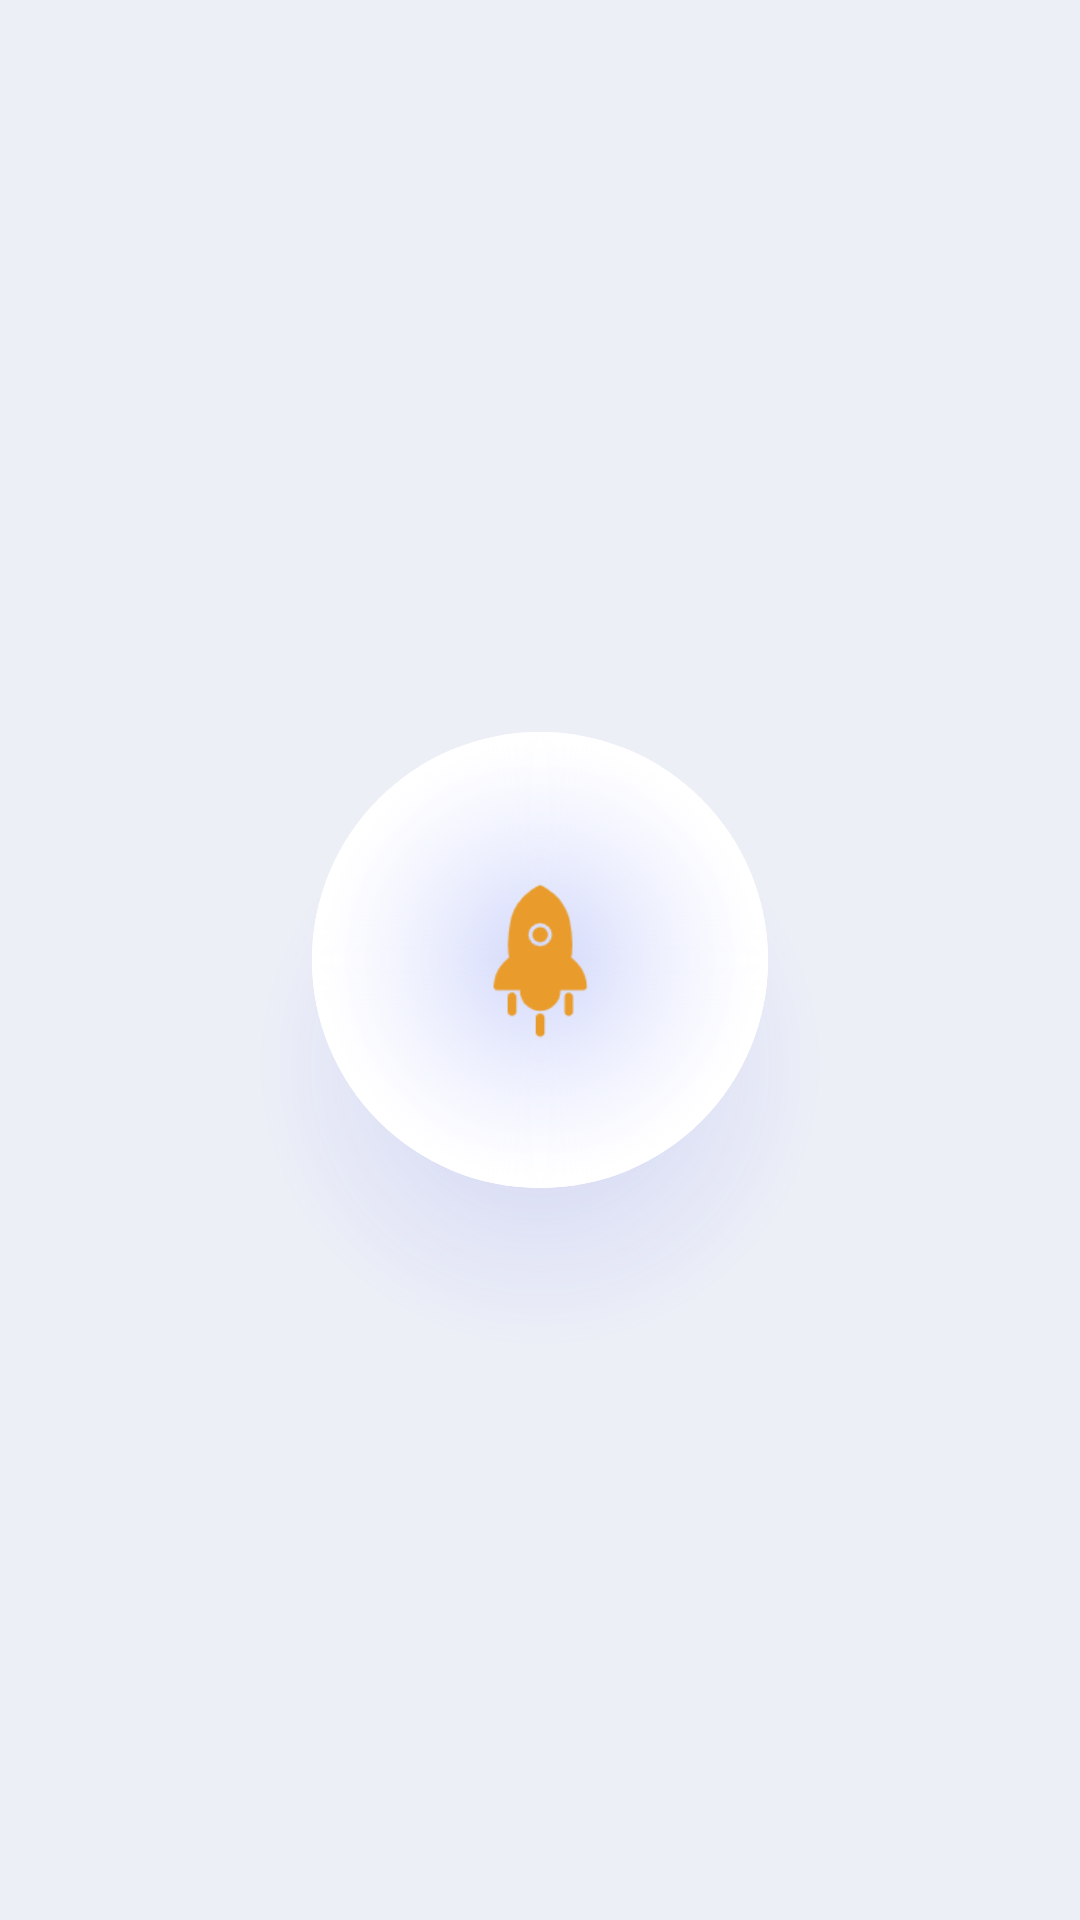

Icon click points for this 1080 x 1920 phone screenshot, format (x=x, y=y):
rocket: (x=540, y=961)
